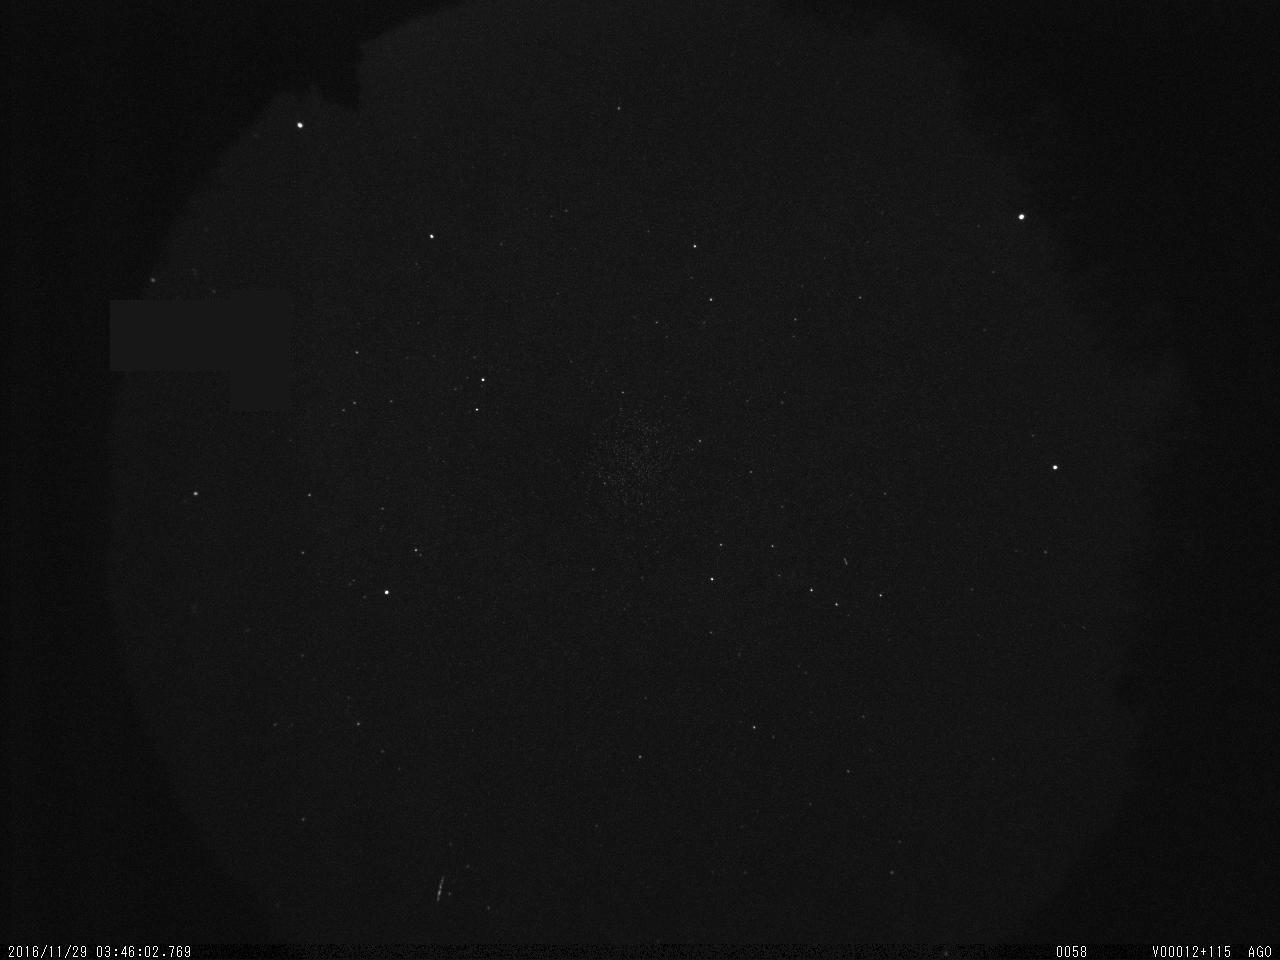Meteor: (432, 869, 452, 910)
